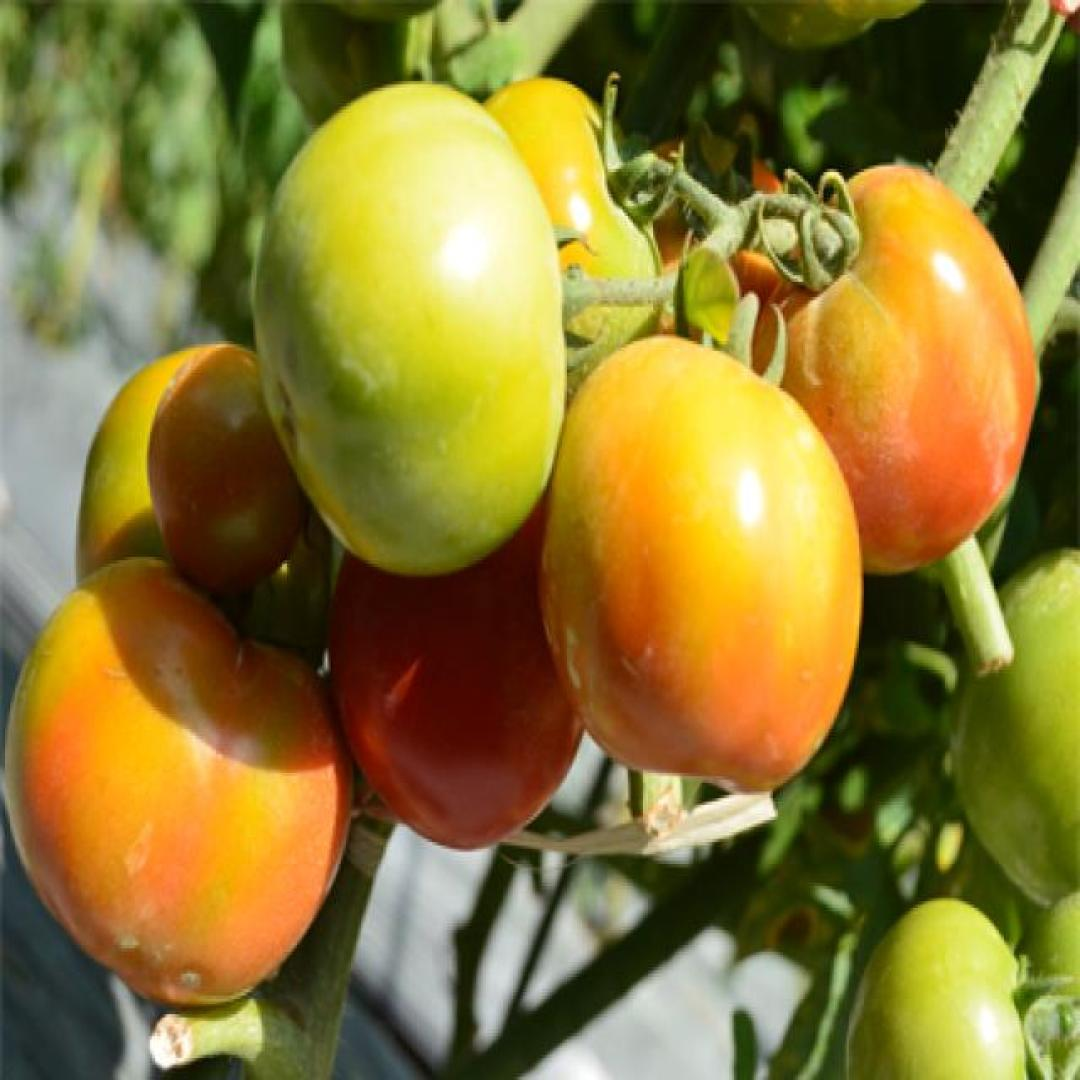mentah: (255, 76, 572, 577)
setengah_matang: (2, 552, 361, 1009), (538, 329, 869, 791), (145, 338, 312, 592)
